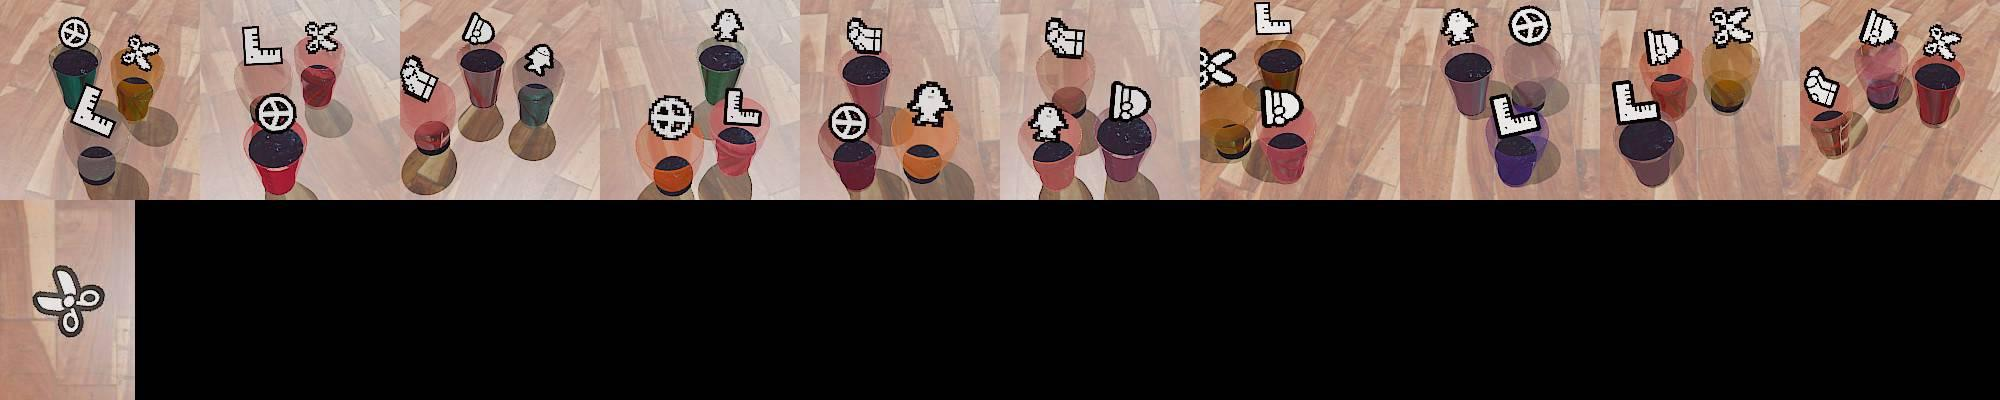icon: (31, 263, 107, 338), (68, 82, 118, 138), (1487, 90, 1542, 139), (647, 94, 696, 142), (906, 80, 954, 127), (1611, 78, 1658, 125), (1709, 6, 1756, 48), (240, 23, 284, 67), (400, 52, 438, 102), (1107, 80, 1151, 123), (1261, 86, 1304, 128), (1028, 101, 1070, 144), (1508, 5, 1552, 46), (254, 92, 297, 133), (1199, 46, 1237, 91), (827, 101, 868, 142), (721, 88, 763, 127), (1803, 66, 1841, 109), (1859, 9, 1899, 48), (1439, 8, 1478, 48), (1644, 28, 1684, 67), (846, 15, 884, 55), (1923, 23, 1962, 61), (1253, 0, 1293, 37), (1044, 17, 1084, 54), (121, 34, 159, 71), (302, 19, 340, 55), (710, 8, 746, 44), (461, 12, 495, 49), (521, 43, 555, 78), (59, 17, 91, 50)
